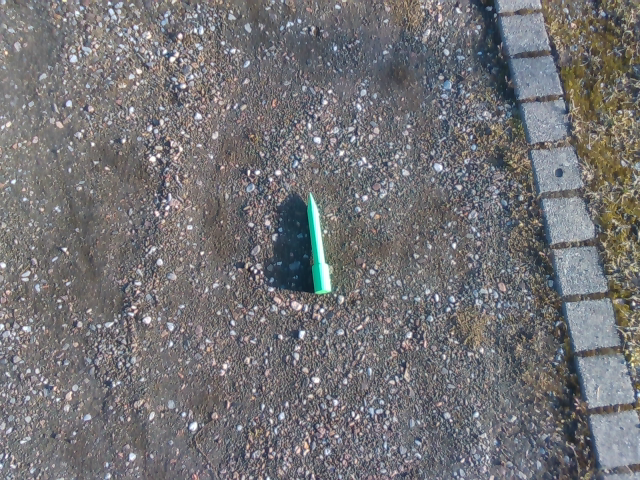Probe: (302, 190, 334, 298)
